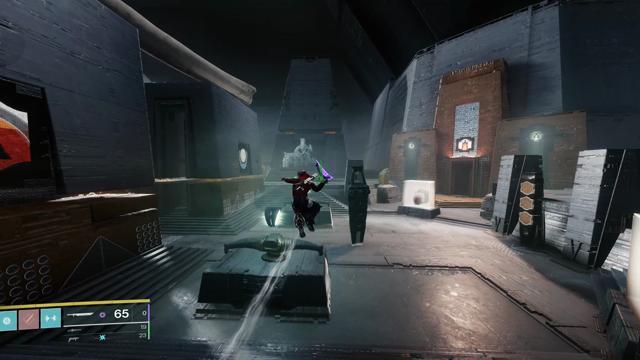pyramid: (0, 100, 31, 171)
traveler: (238, 148, 248, 169)
